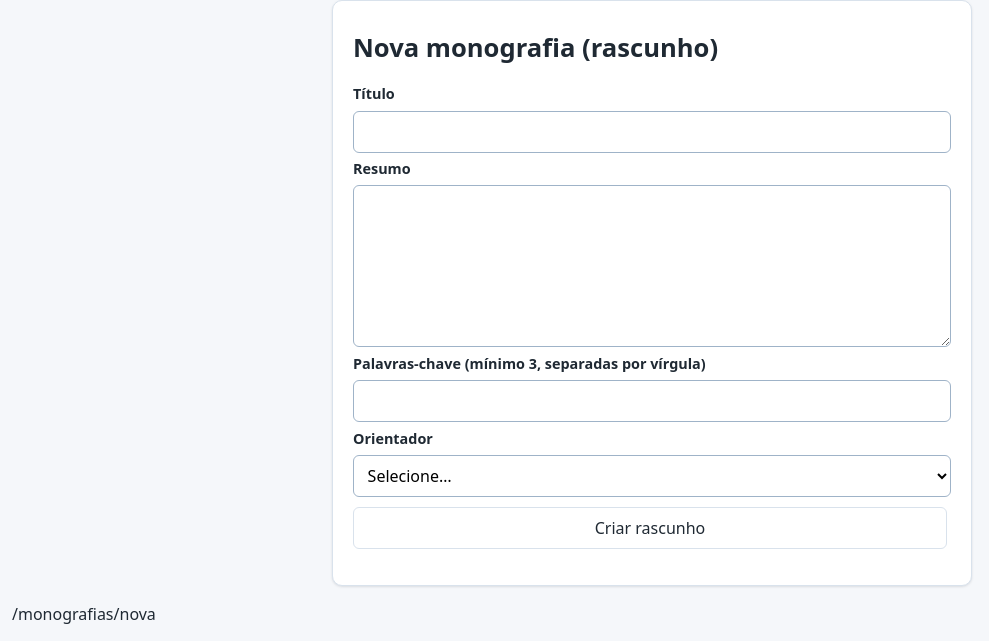
Scenario: Nova monografia (rascunho) › cria o rascunho com orientador e palavras-chave e abre o detalhe
The image size is (989, 641).
Type "Cache distribuído" into the field labelled "Título" at (652, 132), box [353,111,951,153]
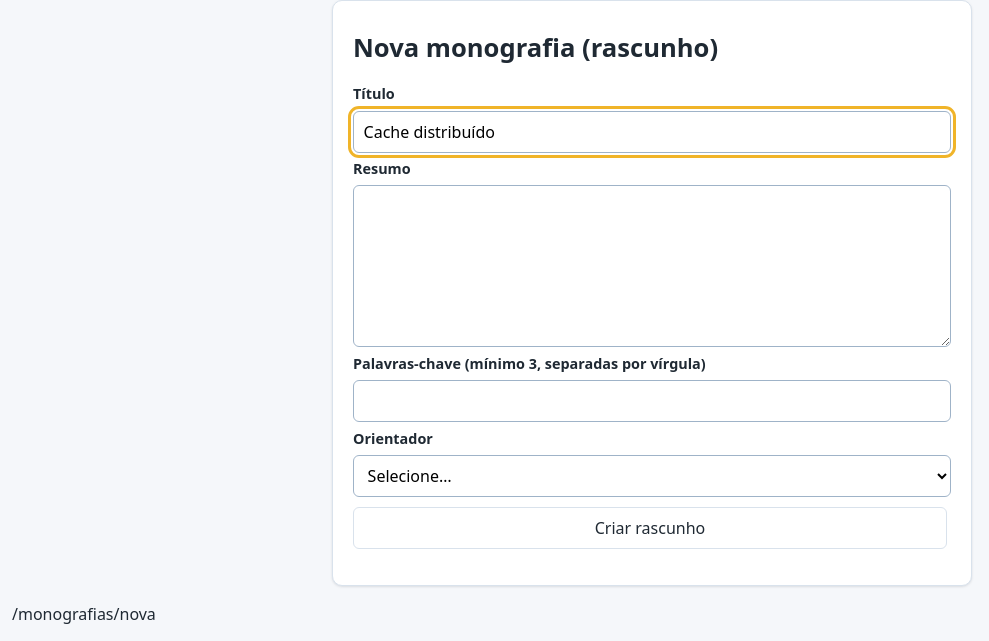
Type "redis, cache , , filas" into the field labelled "Palavras-chave (mínimo 3, separadas por vírgula)" at (652, 401), box [353,380,951,422]
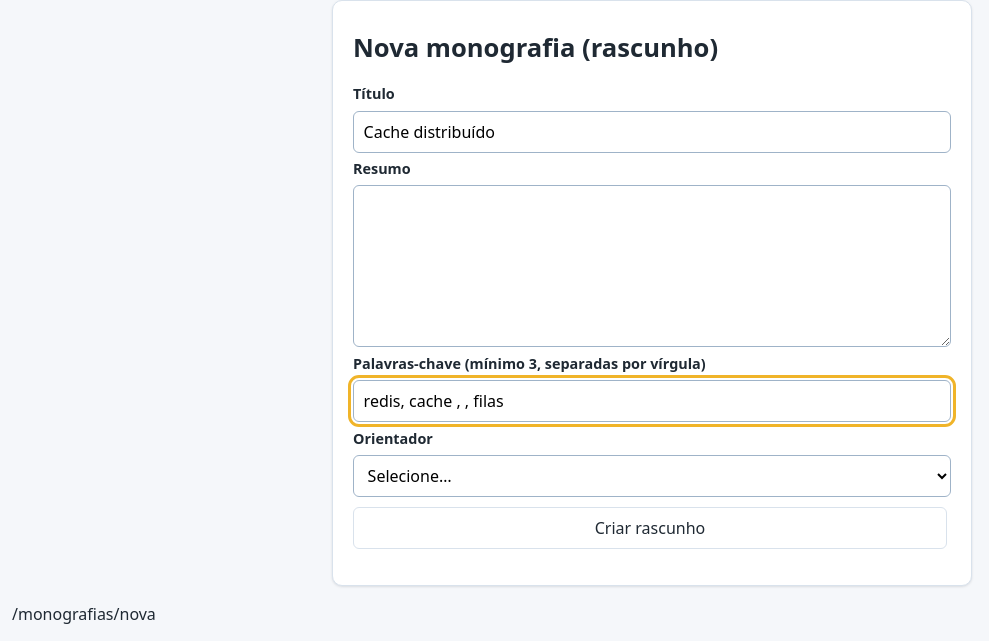
Select "Prof. João — DCOMP" in the dropdown labelled "Orientador" at (652, 476), box [353,455,951,497]
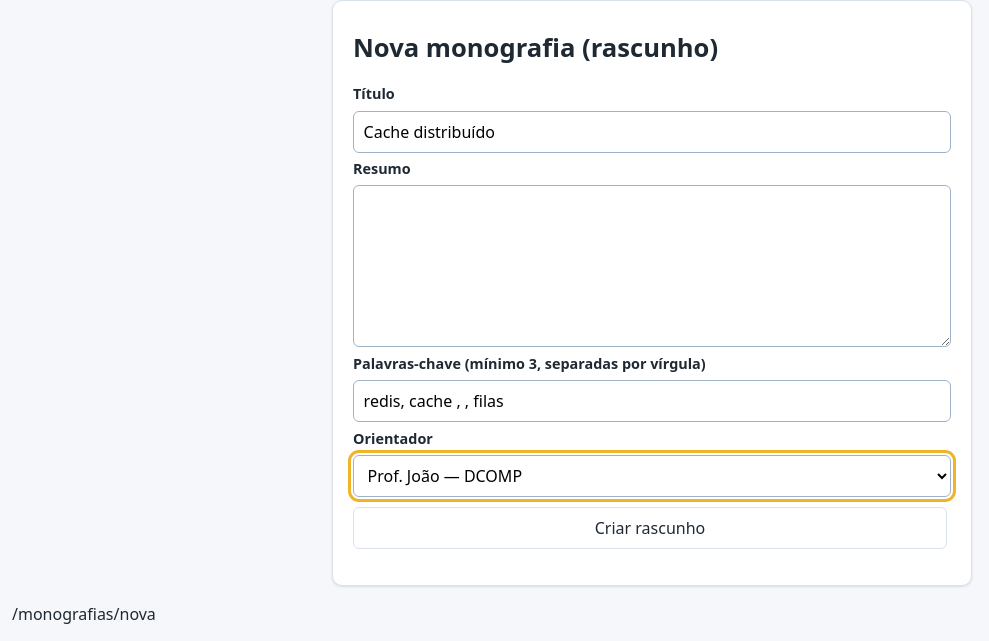
Click the button "Criar rascunho" at (650, 528), box [353,507,947,549]
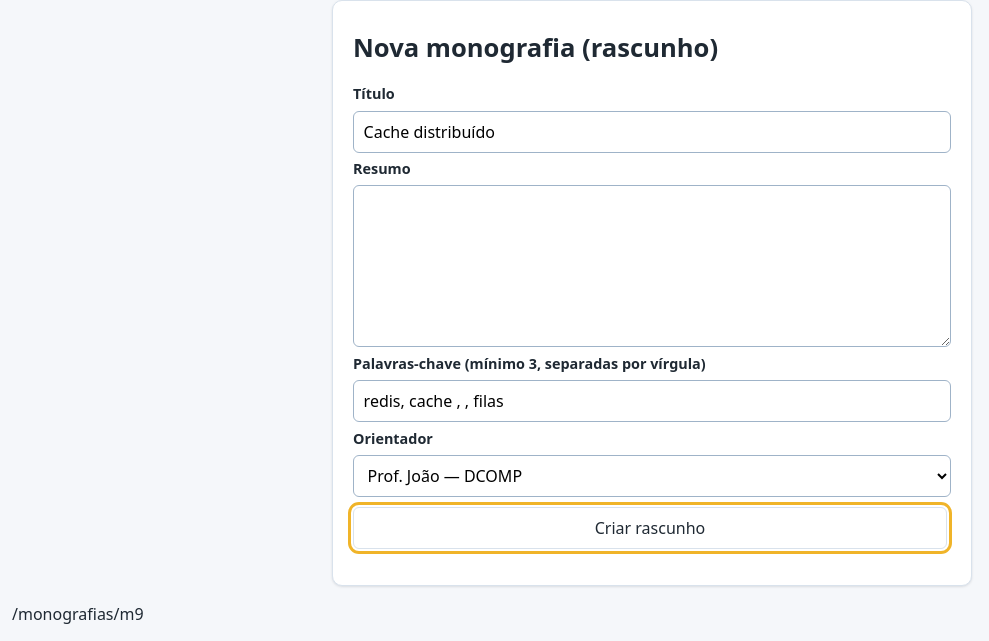
Expected: the text with test id "url" reads "/monografias/m9", [12,603,144,625]
